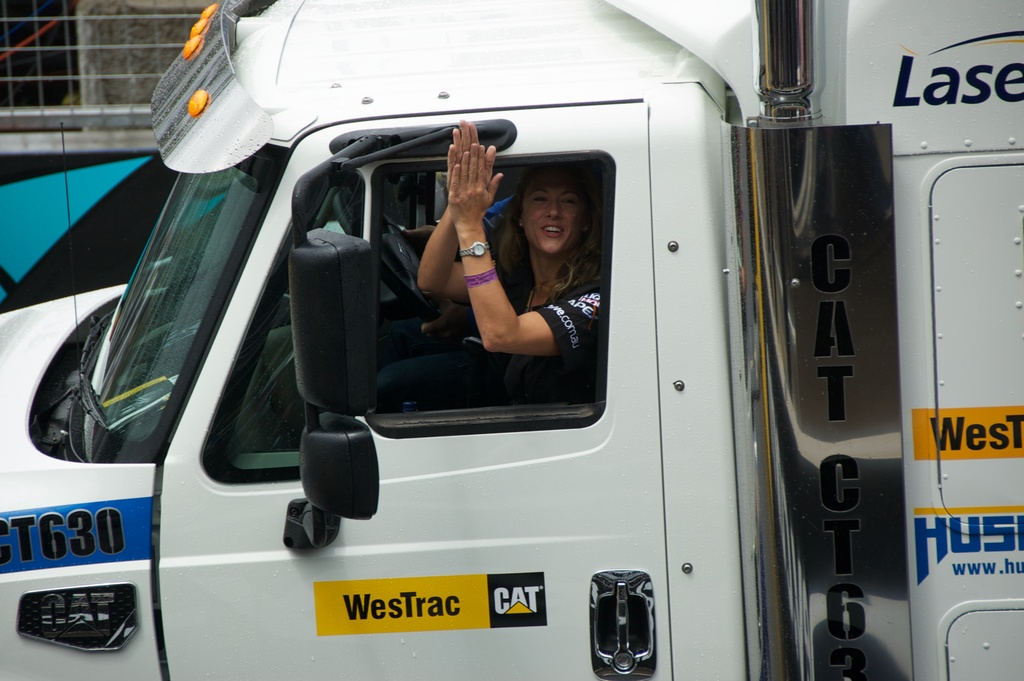Human_hand: (445, 119, 483, 199)
